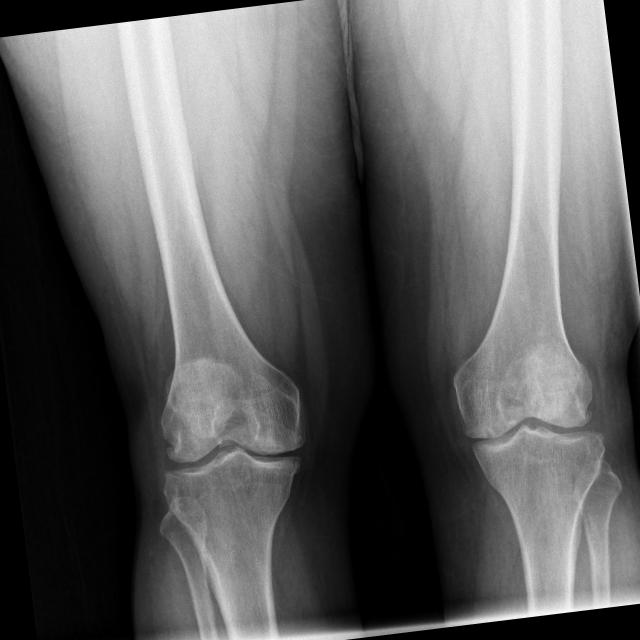Knee: (152, 383, 318, 522), (452, 352, 612, 494)
